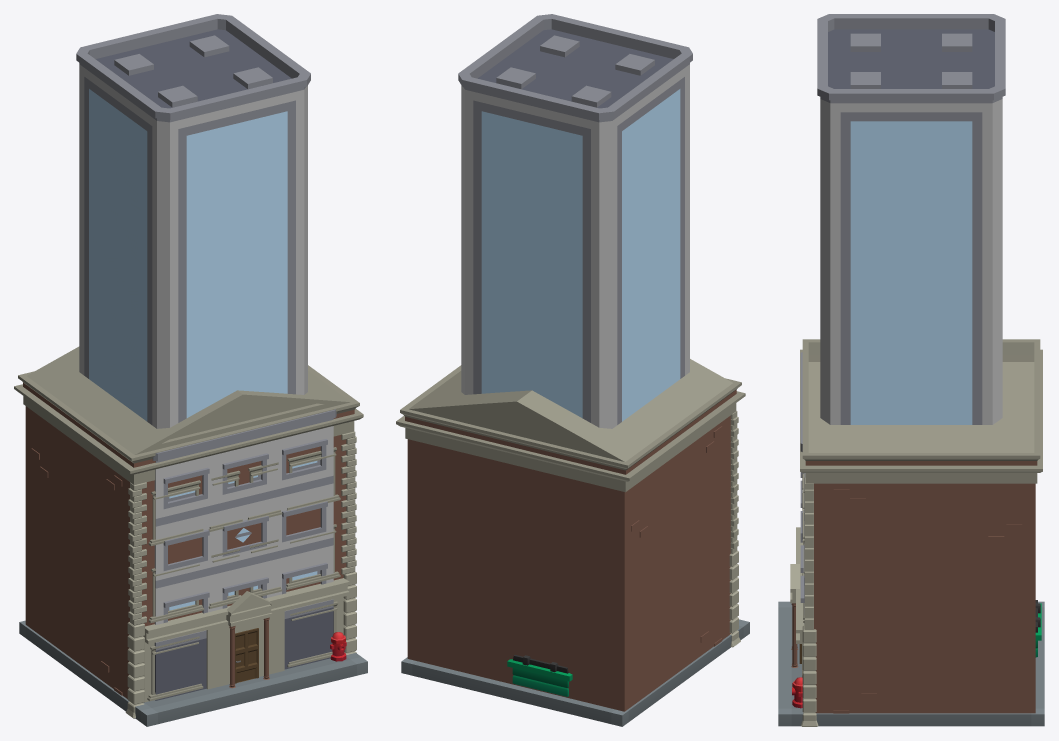
Rendered from world.glb.
The picture shows the model from 3 angles, left to right: view 1: azimuth 30°, elevation 25°; view 2: azimuth 150°, elevation 25°; view 3: azimuth 270°, elevation 25°; orthographic projection. The views are drawn at different scales.
Visible parts, largest first — view 1: BldSky, BldBrick, BldLarge, BldB; view 2: BldBrick, BldSky, BldB; view 3: BldSky, BldBrick, BldB, BldLarge.
Part boxes in pixels (bbox=[...]): BldSky: bbox=[76, 14, 310, 428]; BldBrick: bbox=[14, 346, 363, 718]; BldLarge: bbox=[152, 409, 336, 700]; BldB: bbox=[19, 620, 367, 726]; BldBrick: bbox=[396, 359, 745, 711]; BldSky: bbox=[458, 14, 692, 428]; BldB: bbox=[401, 619, 749, 726]; BldSky: bbox=[817, 14, 1005, 424]; BldBrick: bbox=[790, 339, 1042, 726]; BldB: bbox=[778, 600, 1044, 726]; BldLarge: bbox=[800, 352, 805, 623].
Bounding box in the file's own units: 14.09 × 34 × 13.33.
42 materials, 5 textured.
